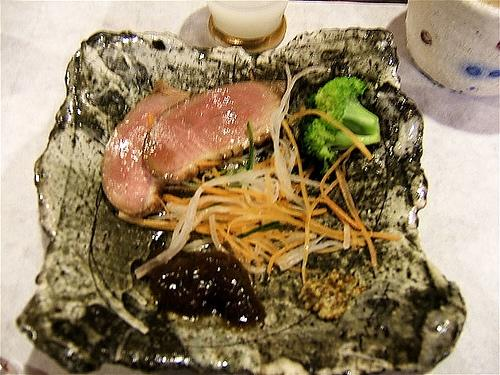broccoli: (301, 76, 381, 175)
